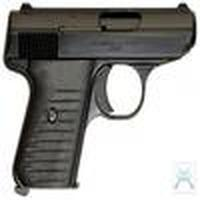gun: (6, 4, 200, 190)
